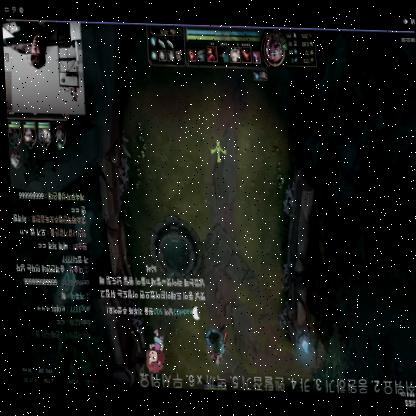donation: (90, 259, 207, 377)
streamer: (16, 21, 59, 70)
